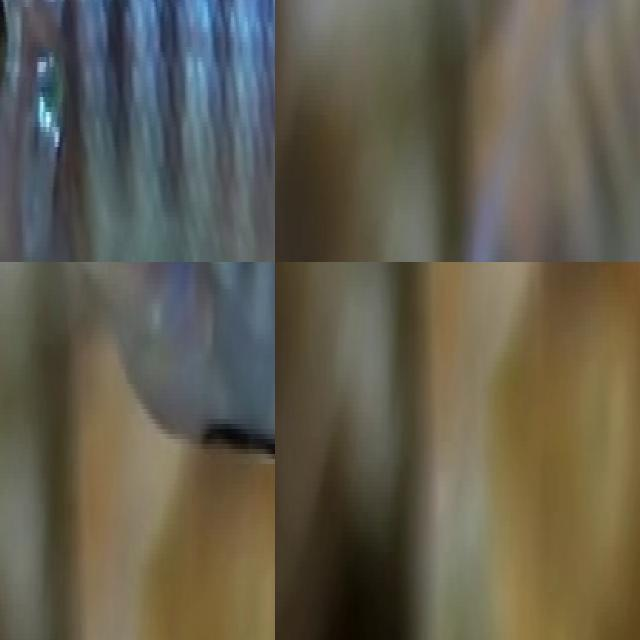fish: (0, 0, 275, 262), (507, 287, 640, 640)
